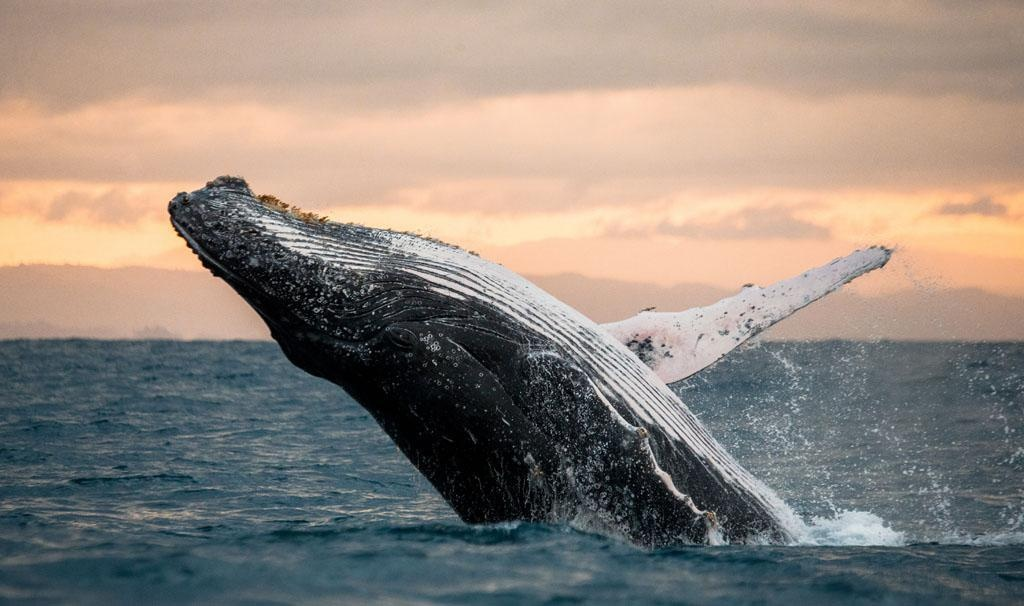fish: (158, 168, 925, 553)
